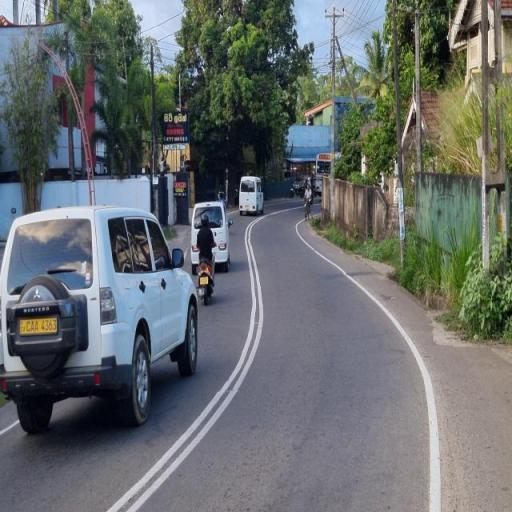double_white_line: (110, 220, 266, 510)
